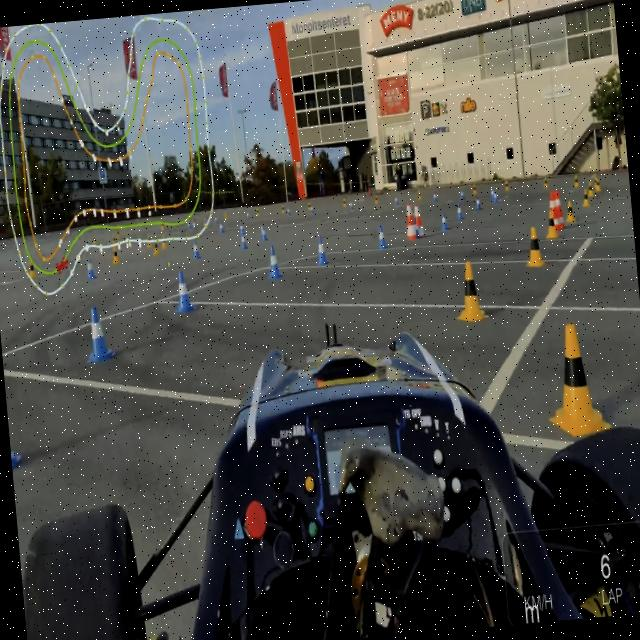blue_cone: (76, 292, 121, 374), (166, 264, 198, 318), (364, 218, 394, 260), (260, 242, 286, 280), (310, 233, 330, 267)
large_orange_cone: (398, 207, 428, 249), (542, 188, 566, 235)
yellow_cone: (549, 314, 605, 442), (451, 252, 492, 329), (515, 218, 545, 273)
